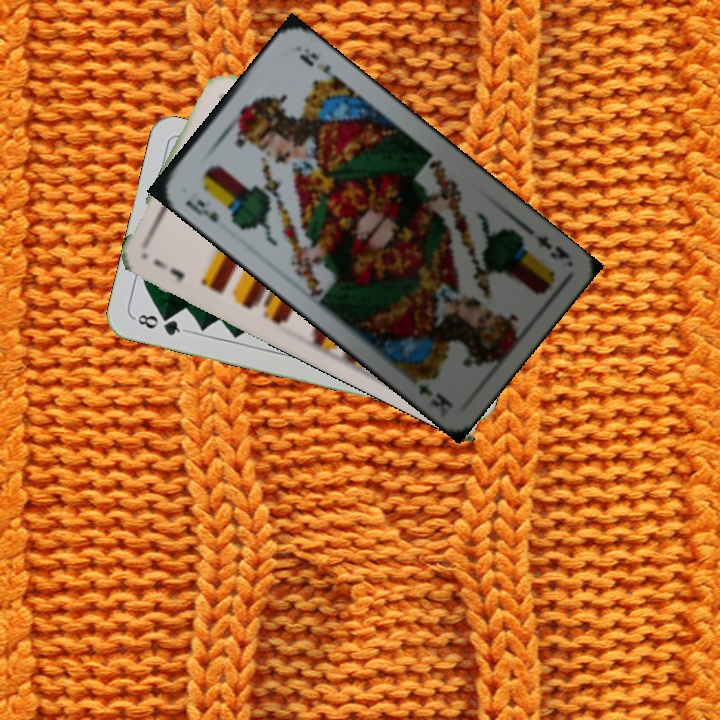E7: (150, 255, 188, 286)
EK: (521, 223, 572, 263), (181, 195, 222, 225)
G8: (130, 310, 189, 339)
